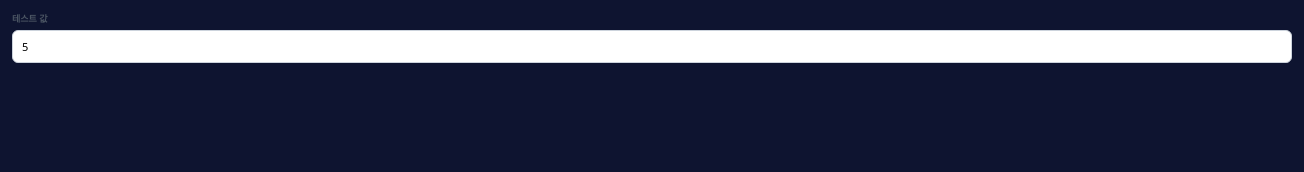
Test case: NumberCommitInput(S15P21A604-554) › 숫자가 아닌 문자(글자·소수점·마이너스)는 입력에 반영되지 않는다
Replace the text in the field labelled "테스트 값" with "a1.2-3b" at (652, 46), box 12,30 -> 1292,63
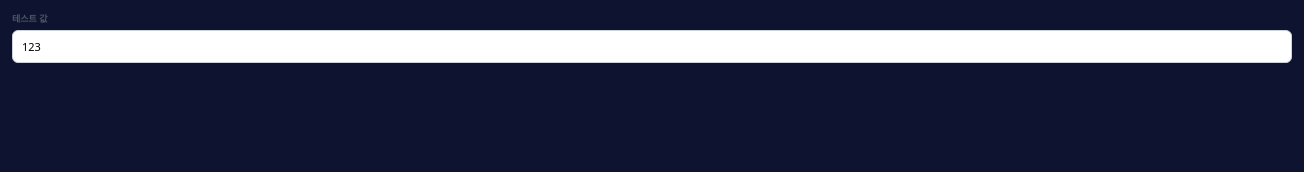
Expected: the field labelled "테스트 값" holds "123", 12,30 -> 1292,63
